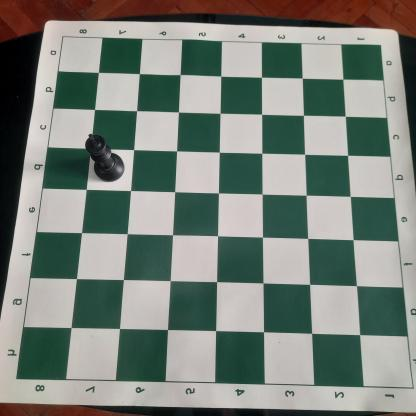black-king: (83, 131, 126, 183)
